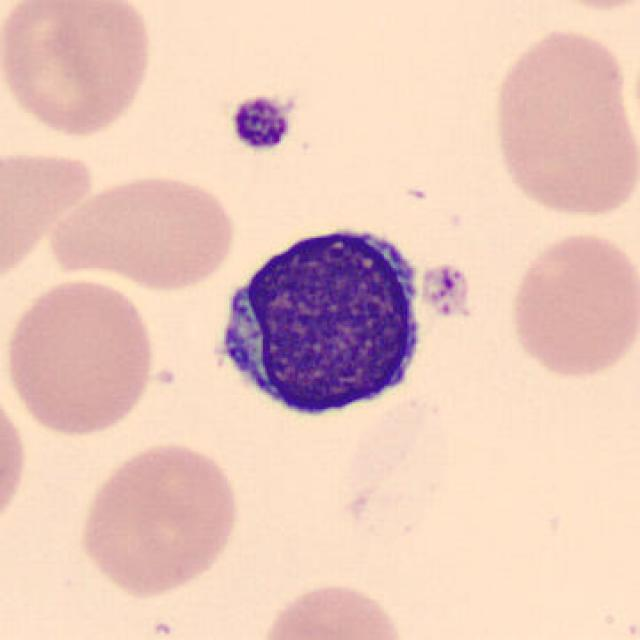Lymphocyte: (201, 210, 432, 428)
Platelets: (226, 92, 295, 153), (422, 260, 479, 328)
RBC: (486, 23, 638, 224), (75, 438, 244, 600), (0, 273, 160, 439), (43, 168, 240, 292), (0, 0, 158, 141), (503, 225, 638, 382), (0, 141, 101, 285), (254, 576, 414, 640), (0, 382, 32, 538)
